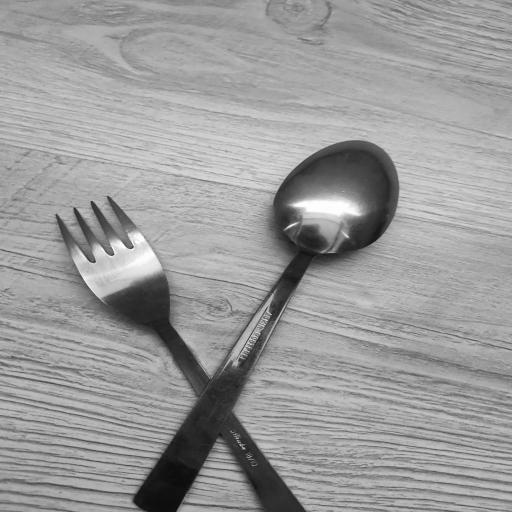fork: (57, 199, 325, 512)
spoon: (128, 137, 402, 512)
